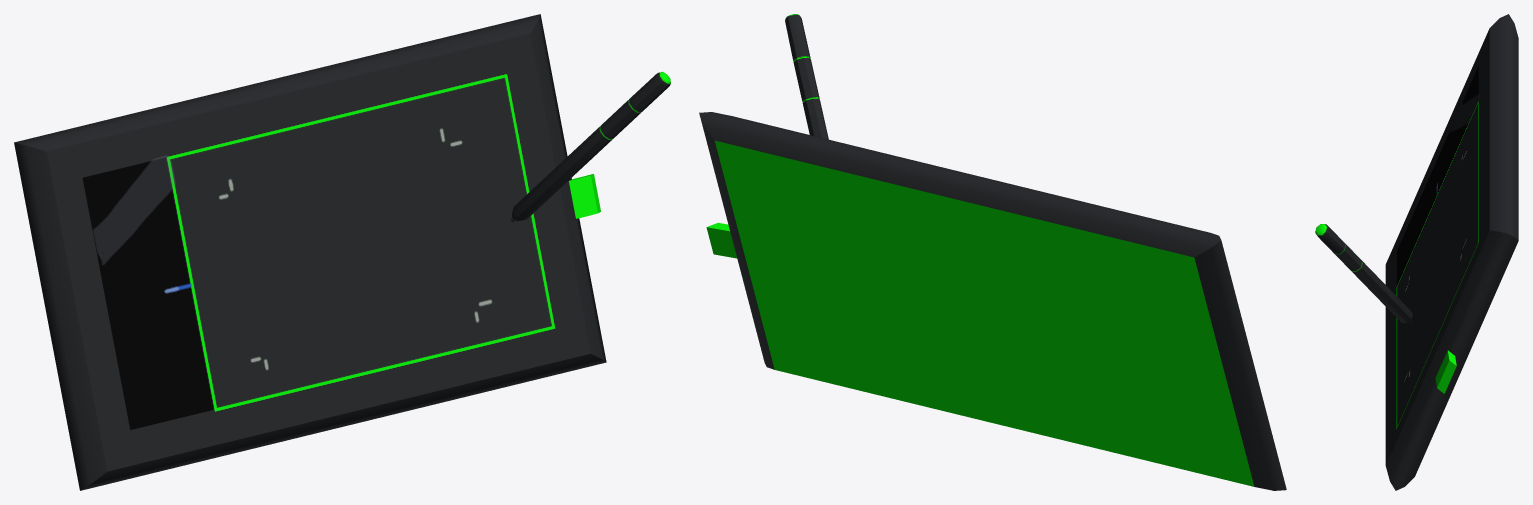
The model's file is Tablet Export.fbx.
The picture shows the model from 3 angles, left to right: view 1: azimuth 30°, elevation 25°; view 2: azimuth 150°, elevation 25°; view 3: azimuth 270°, elevation 25°; orthographic projection. The views are drawn at different scales.
Visible parts, largest first — view 1: Box001; view 2: Box001; view 3: Box001.
Boxes of the visible parts, left/top/right/bottom form: Box001: left=14, top=14, right=670, bottom=490; Box001: left=699, top=14, right=1286, bottom=490; Box001: left=1315, top=14, right=1518, bottom=490.
Size of the model in its own units: 79.68 by 43.99 by 29.84.
